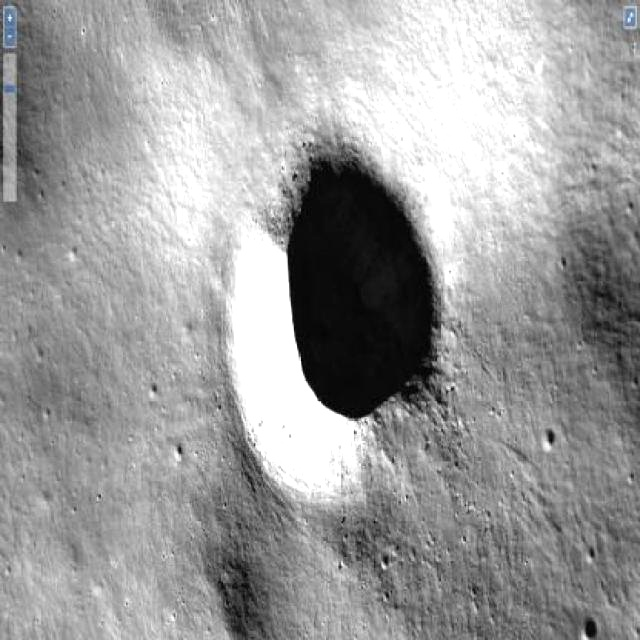crater: (228, 126, 446, 511)
